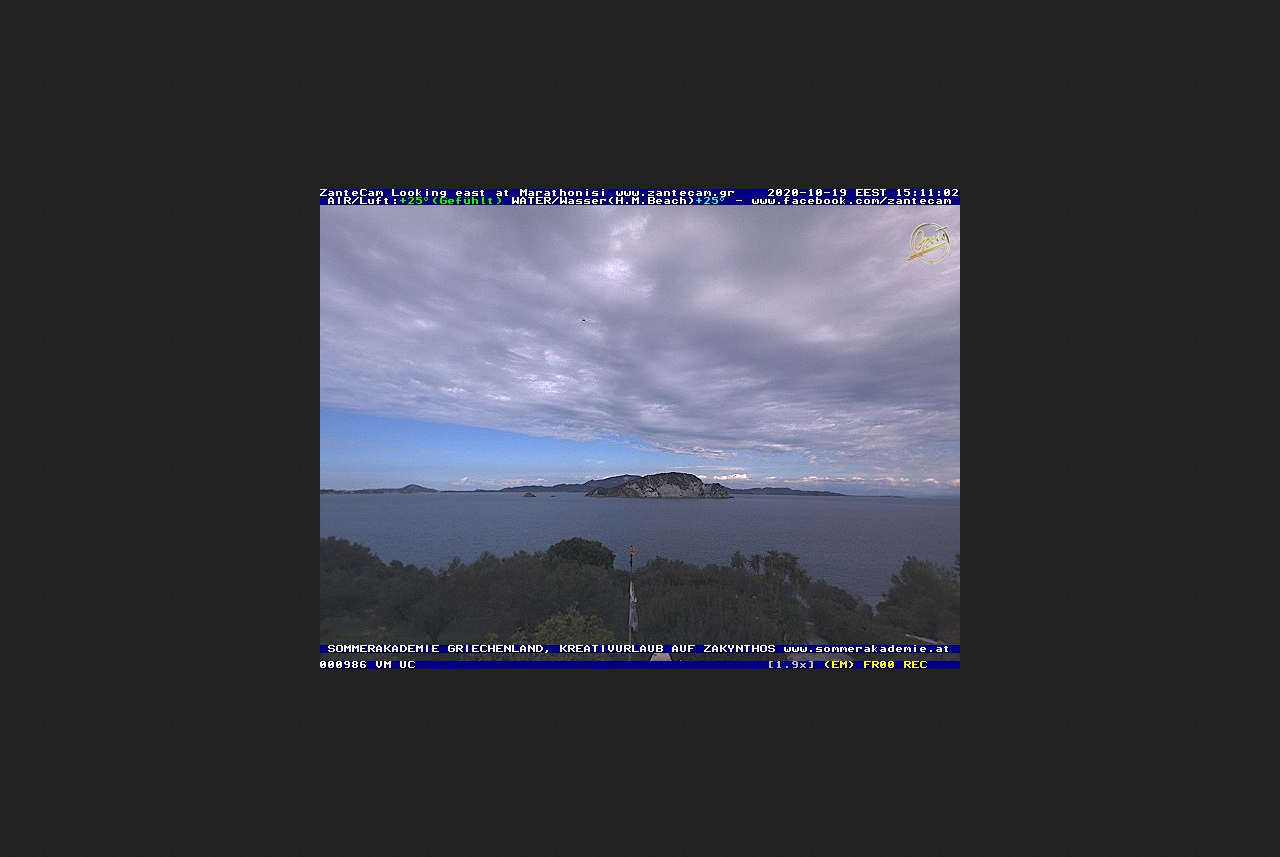no: (624, 580, 644, 635)
